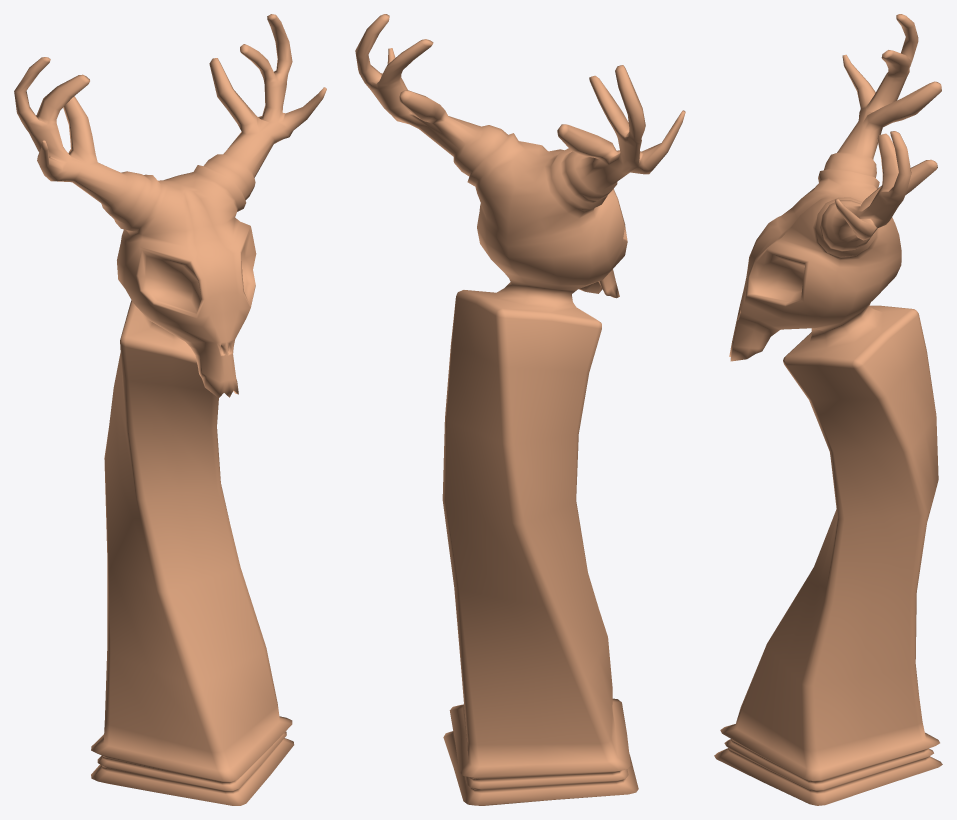
File: Necromancer.fbx
3 renders of one model, left to right at view 1: azimuth 30°, elevation 25°; view 2: azimuth 150°, elevation 25°; view 3: azimuth 270°, elevation 25°, orthographic. The views are drawn at different scales.
Visible parts, largest first — view 1: Necromancer.002; view 2: Necromancer.002; view 3: Necromancer.002.
Boxes of the visible parts, bbox=[...] form: Necromancer.002: bbox=[14, 14, 326, 805]; Necromancer.002: bbox=[355, 14, 685, 805]; Necromancer.002: bbox=[714, 14, 942, 805].
Size of the model in its own units: 127 by 308 by 91.33.
